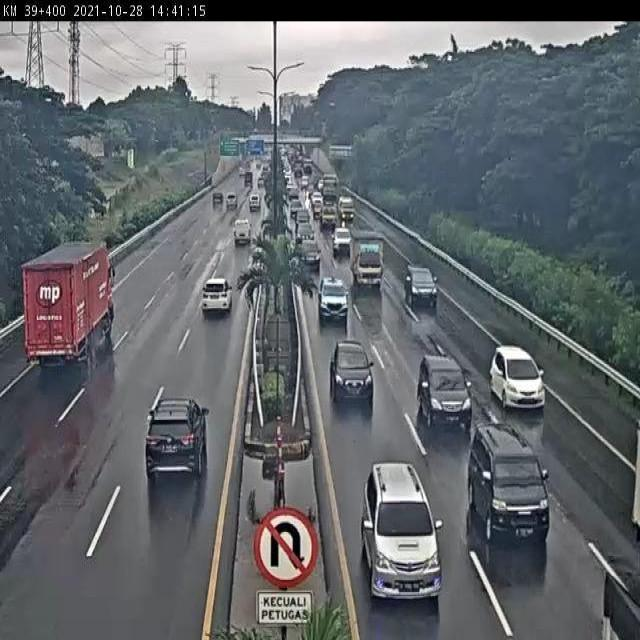car: (362, 462, 444, 602), (465, 426, 552, 542), (146, 398, 208, 482), (417, 355, 473, 429), (490, 347, 548, 409), (329, 340, 374, 404), (317, 274, 348, 322), (404, 264, 438, 305), (201, 278, 233, 314), (299, 240, 321, 271), (234, 219, 251, 244)
mid truck: (21, 241, 115, 364)
truck-m-: (349, 228, 384, 287)
